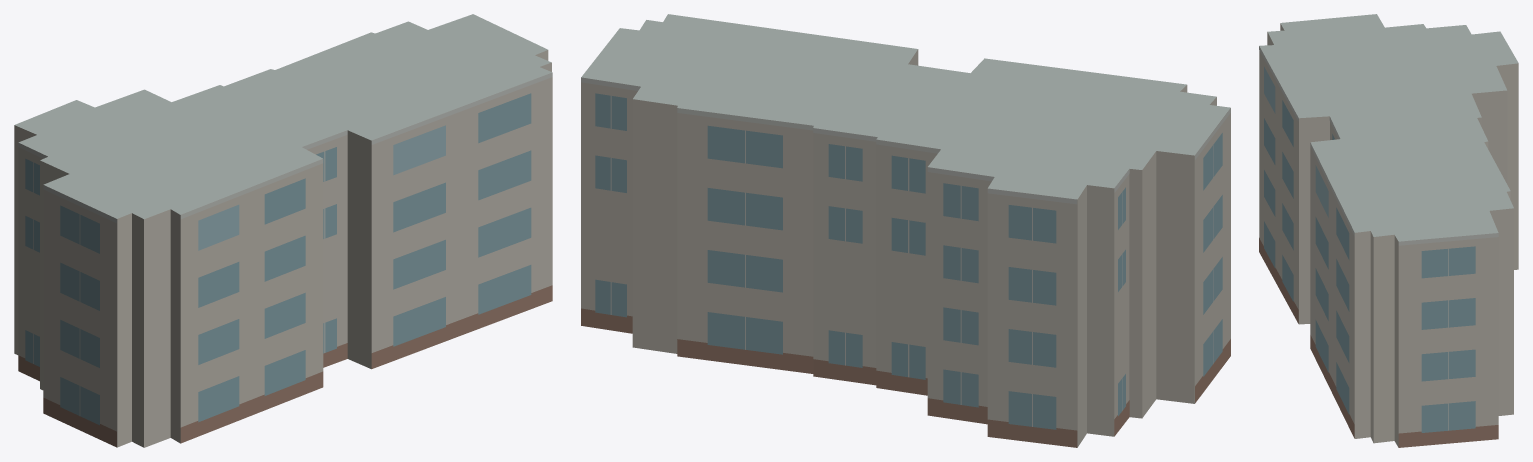
The model's file is survey-upis-32720235.glb.
The picture shows the model from 3 angles, left to right: view 1: azimuth 30°, elevation 25°; view 2: azimuth 150°, elevation 25°; view 3: azimuth 270°, elevation 25°; orthographic projection. The views are drawn at different scales.
Parts seen in each view (by area): view 1: survey-upis-32720235.tmp; view 2: survey-upis-32720235.tmp; view 3: survey-upis-32720235.tmp.
Boxes of the visible parts, bbox=[...] form: survey-upis-32720235.tmp: bbox=[14, 14, 552, 447]; survey-upis-32720235.tmp: bbox=[581, 14, 1230, 447]; survey-upis-32720235.tmp: bbox=[1259, 14, 1518, 447].
Size of the model in its own units: 29.12 by 12.3 by 14.05.
